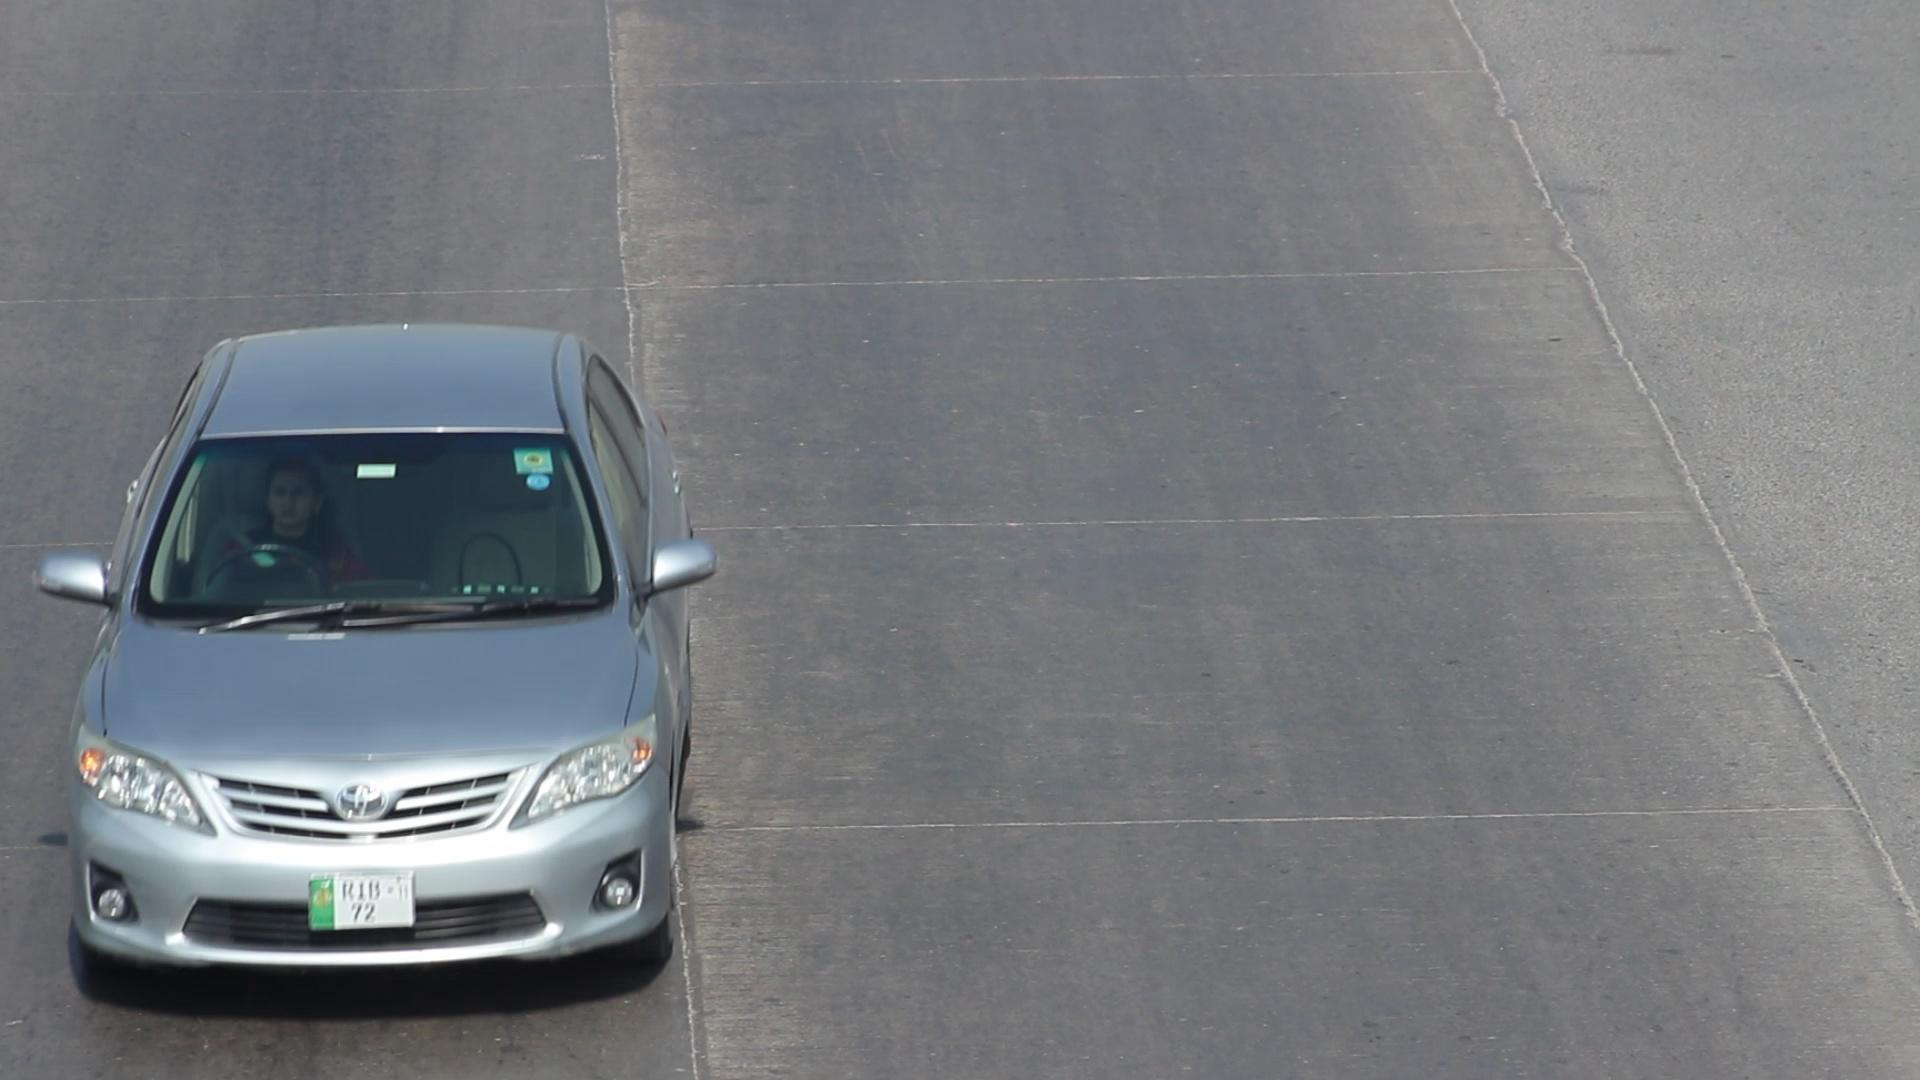windshield: (94, 404, 624, 640)
